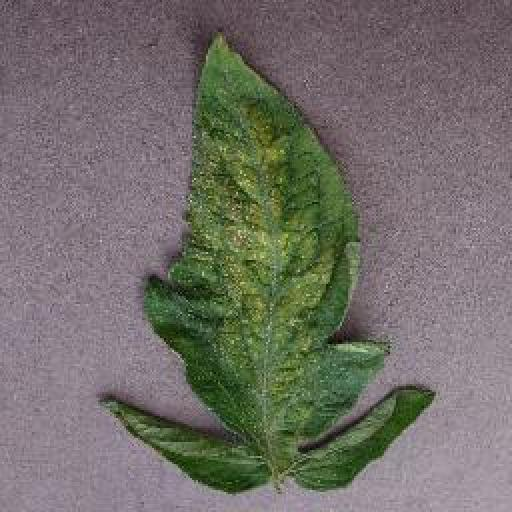Spider Mites: (101, 27, 436, 496)
